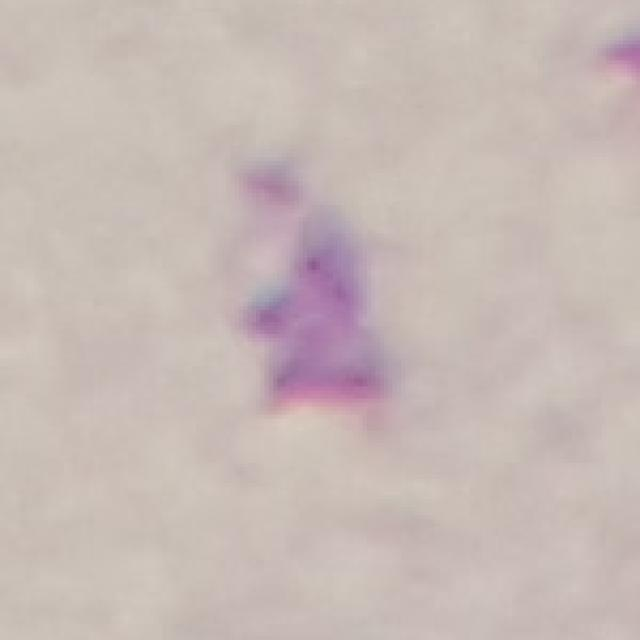non-sperm: (229, 168, 409, 438)
